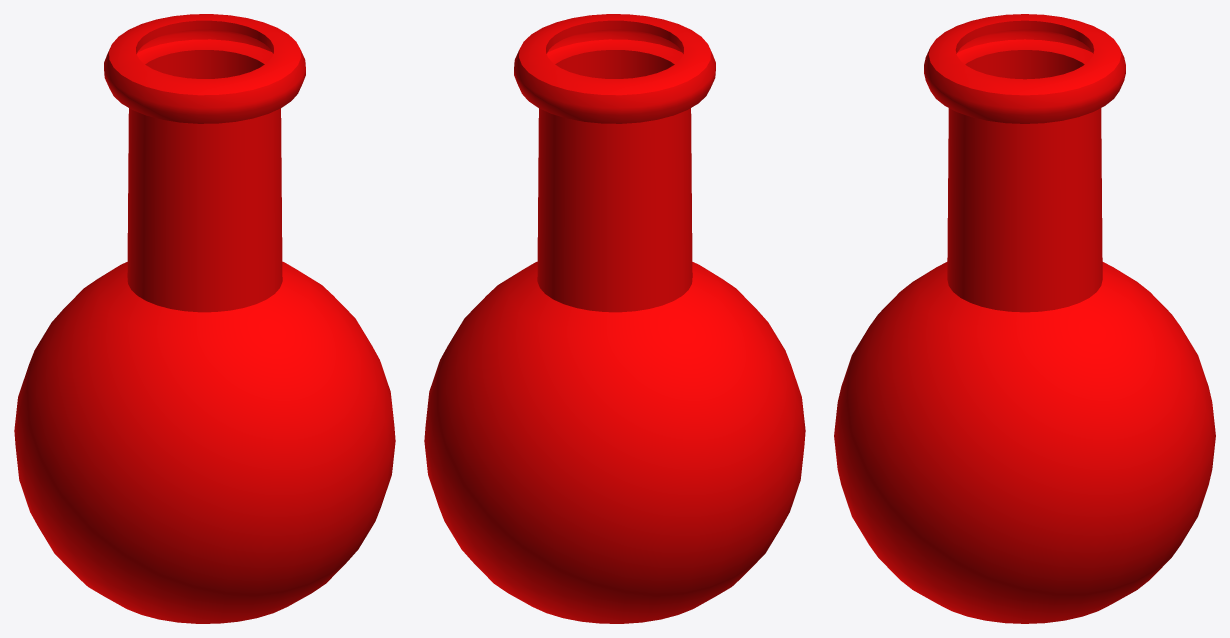
Rendered from LabProp05.fbx.
The picture shows the model from 3 angles, left to right: view 1: azimuth 30°, elevation 25°; view 2: azimuth 150°, elevation 25°; view 3: azimuth 270°, elevation 25°; orthographic projection.
Visible parts, largest first — view 1: LabProp05; view 2: LabProp05; view 3: LabProp05.
Part boxes in pixels (x1,y1,x2,y2): LabProp05: (14, 14, 395, 623); LabProp05: (424, 14, 805, 623); LabProp05: (834, 14, 1215, 623).
Bounding box in the file's own units: 25.94 × 39.76 × 25.94.
